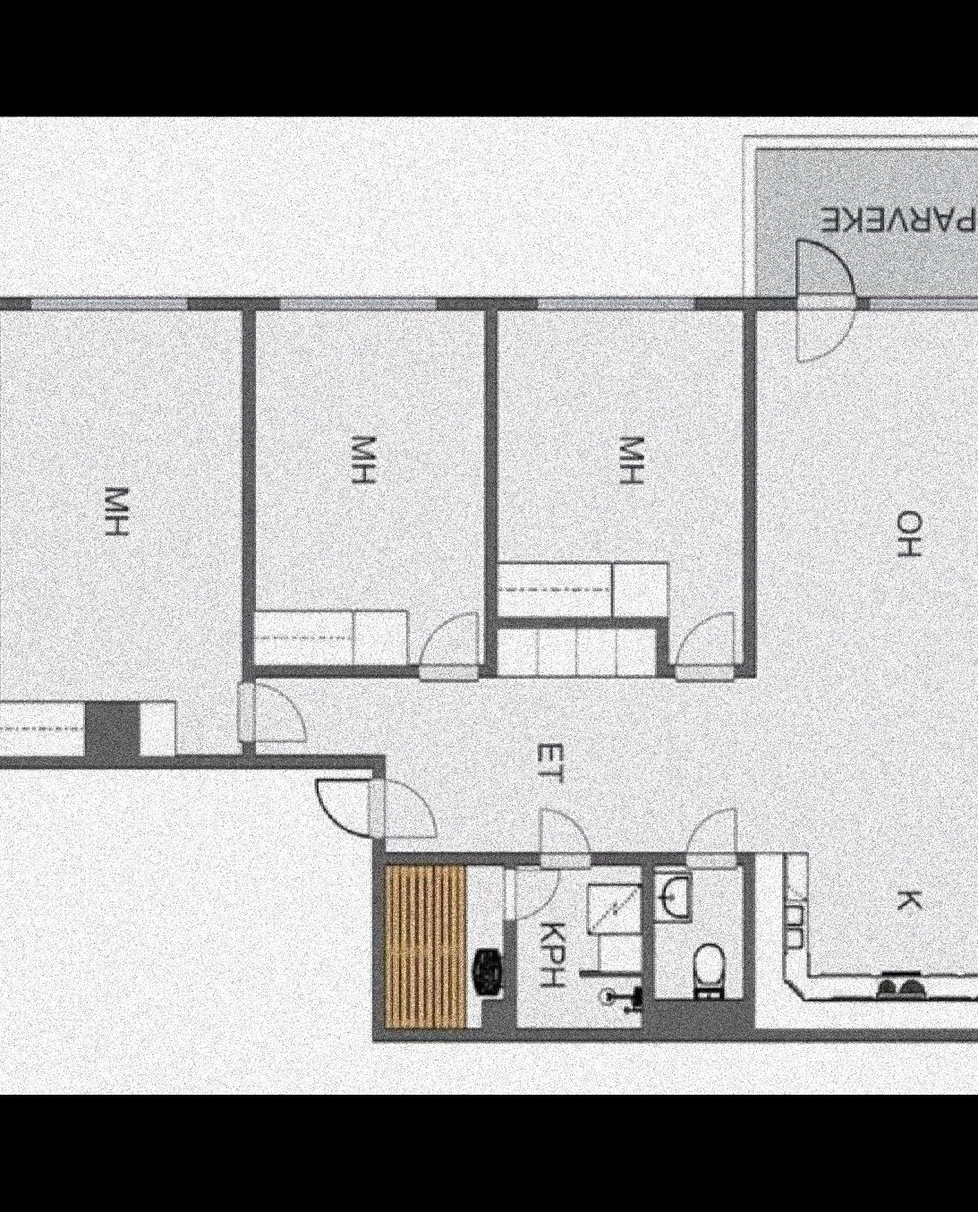door: (783, 239, 859, 385), (309, 777, 443, 845), (413, 606, 488, 683), (672, 604, 739, 688), (227, 683, 312, 747), (540, 795, 600, 867), (683, 807, 740, 880), (493, 862, 559, 925)
window: (279, 290, 439, 323), (32, 294, 188, 321), (533, 292, 696, 316), (865, 294, 978, 317)
zone: (242, 312, 978, 1024), (4, 312, 237, 758), (491, 314, 746, 675), (258, 312, 487, 664), (755, 149, 978, 299), (515, 863, 643, 1017), (386, 872, 500, 1028), (654, 863, 743, 998)
